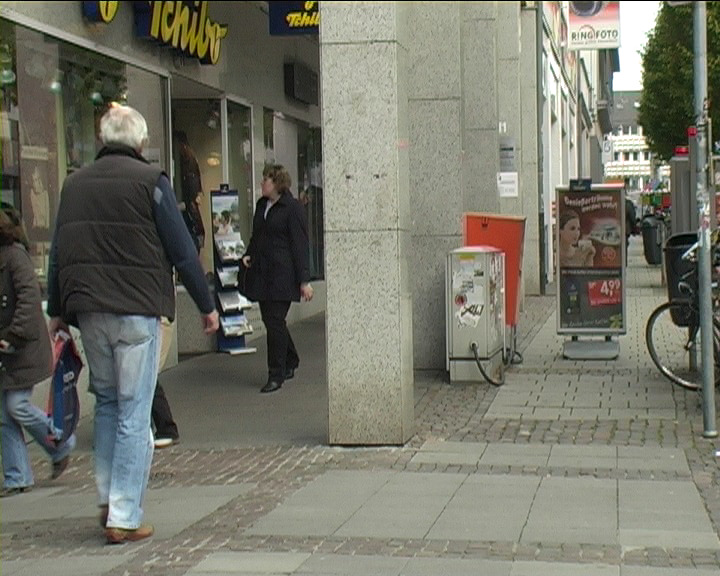deflection: (248, 162, 304, 228)
undeflect: (69, 110, 171, 211)
